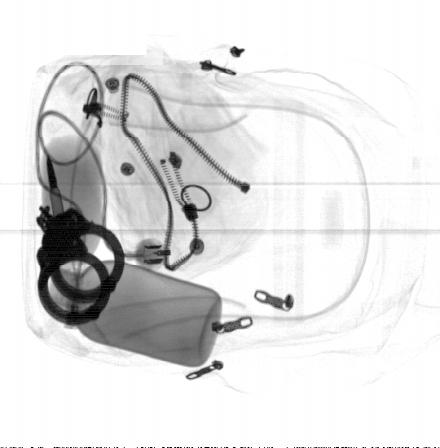Bullet: (46, 154, 68, 231)
HandCuffs: (35, 205, 124, 326)
